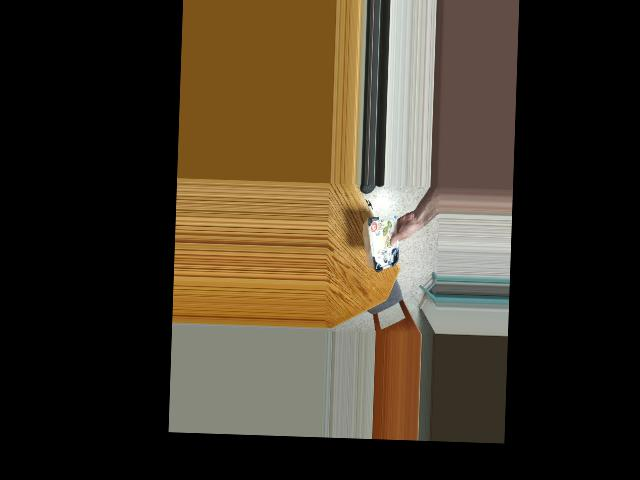cheese: (364, 217, 405, 269)
